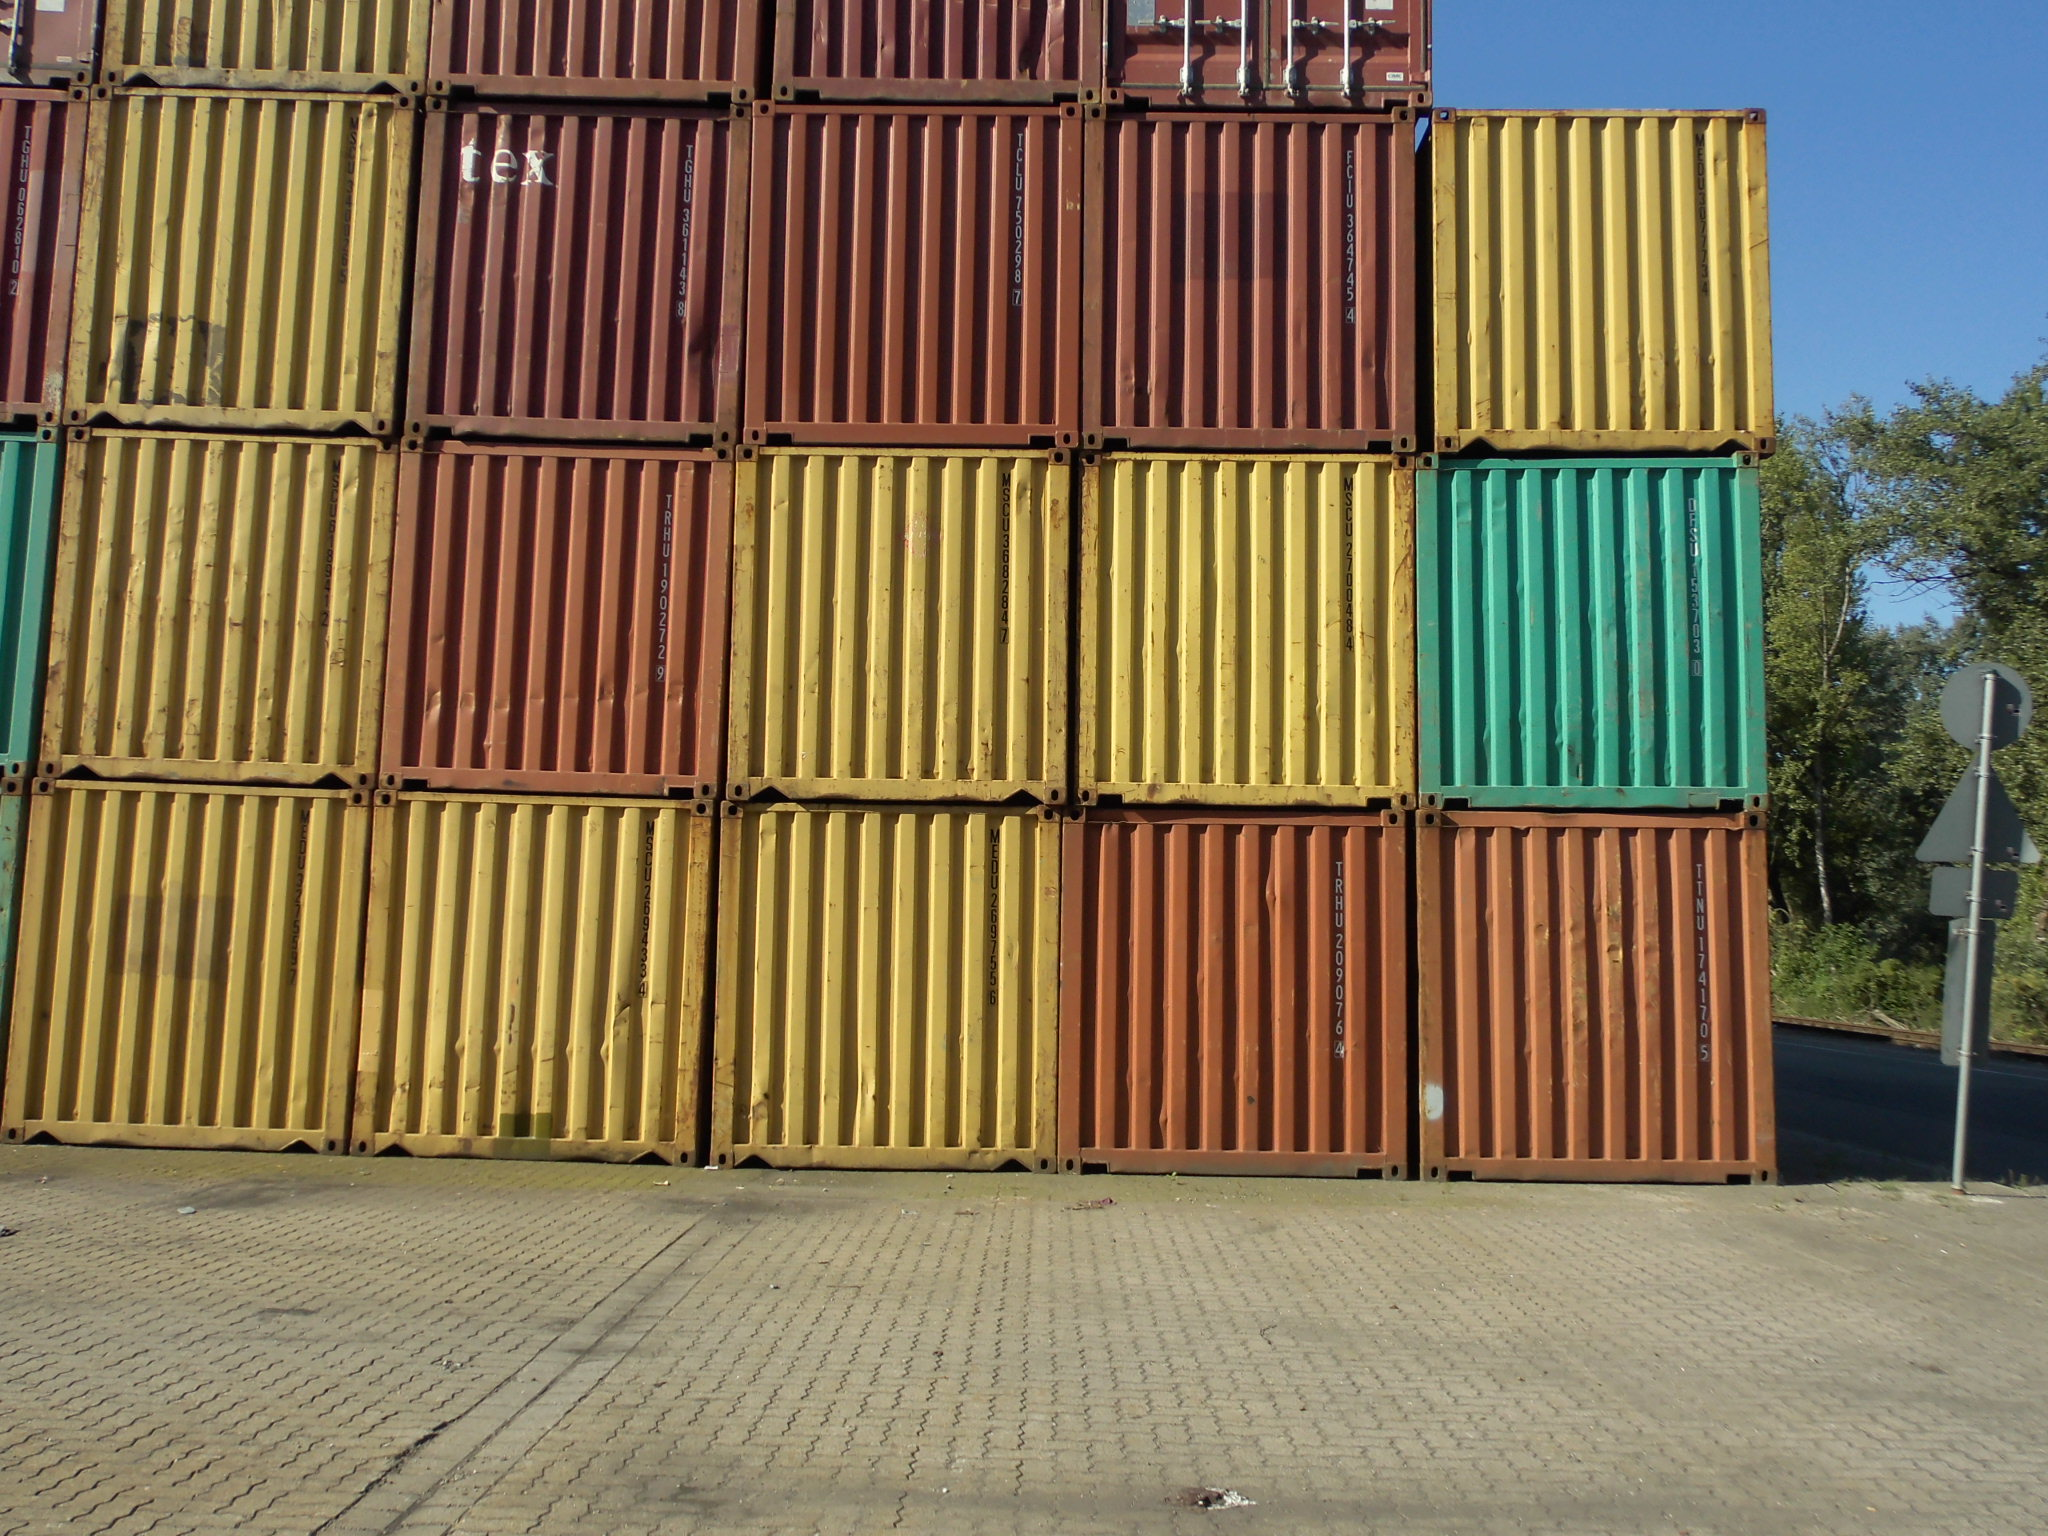container_no_door: (85, 86, 402, 437), (1434, 111, 1750, 463), (1435, 457, 1751, 808), (1076, 813, 1392, 1165), (429, 89, 743, 440), (768, 97, 1082, 449), (1100, 113, 1414, 465), (52, 432, 366, 784), (402, 434, 716, 786), (743, 450, 1058, 802), (1090, 452, 1405, 803), (16, 778, 331, 1129), (358, 791, 672, 1142), (719, 815, 1034, 1167), (1422, 807, 1737, 1158)
